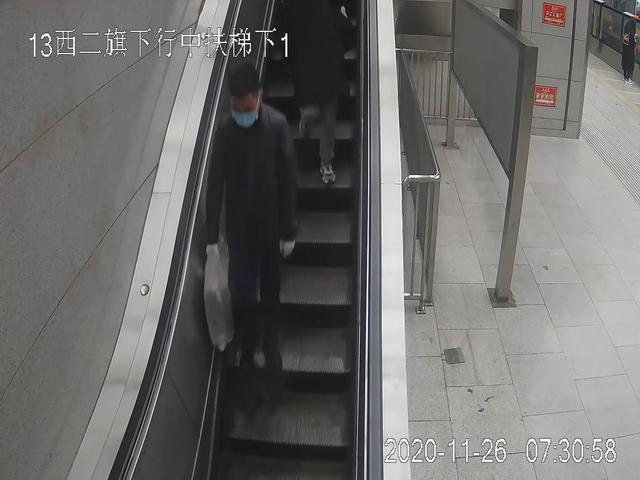person: (206, 65, 299, 375), (287, 1, 353, 186), (620, 17, 638, 85)
